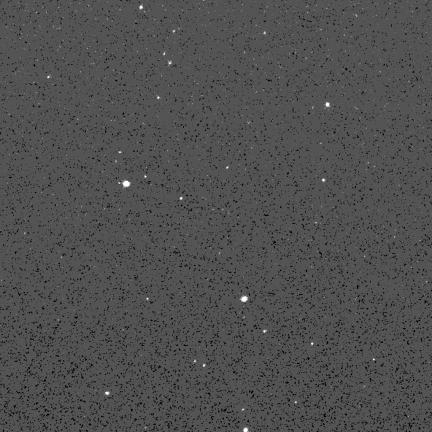blob: (122, 181, 130, 187), (241, 296, 248, 302), (139, 5, 143, 10), (105, 392, 110, 396), (179, 197, 184, 201), (226, 166, 230, 170), (243, 428, 248, 431), (326, 103, 329, 107), (263, 330, 267, 333), (322, 179, 325, 182), (311, 343, 314, 346), (203, 364, 205, 367)
